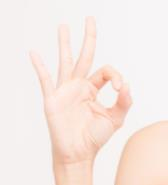left: (25, 12, 127, 164)
